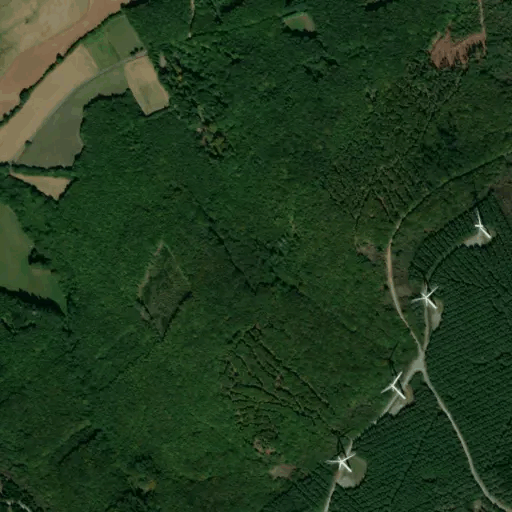wt: (464, 187, 498, 242), (378, 350, 410, 401), (326, 426, 355, 477), (409, 264, 439, 309)
